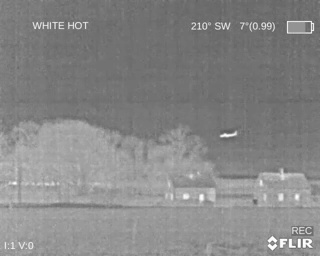AIRPLANE: (218, 130, 239, 140)
